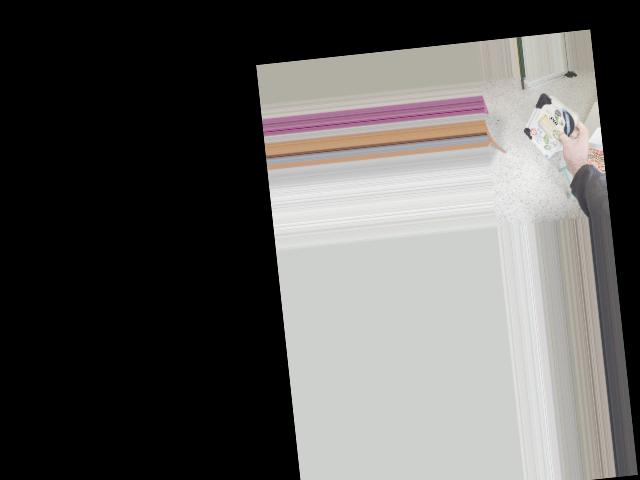cheese: (514, 90, 593, 151)
